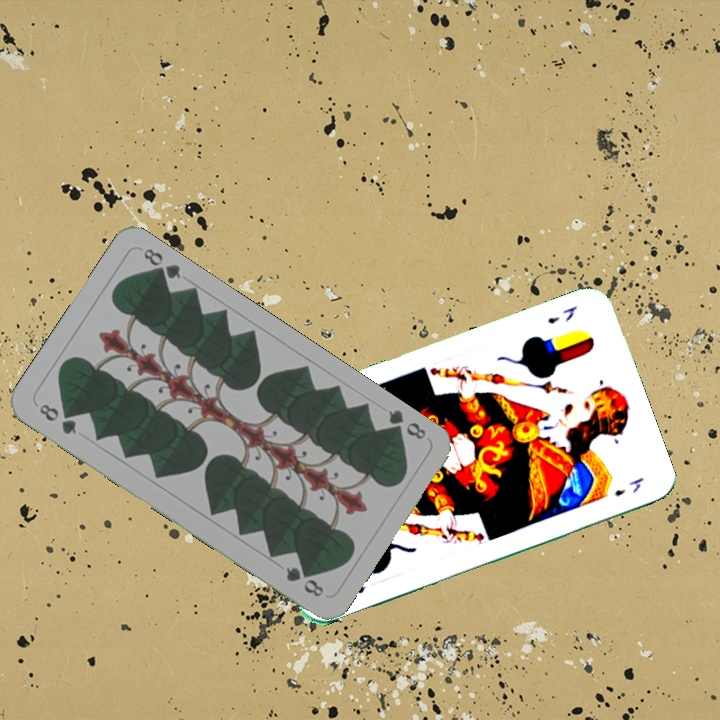EK: (543, 302, 580, 327)
G8: (382, 405, 429, 443), (35, 399, 79, 437)
